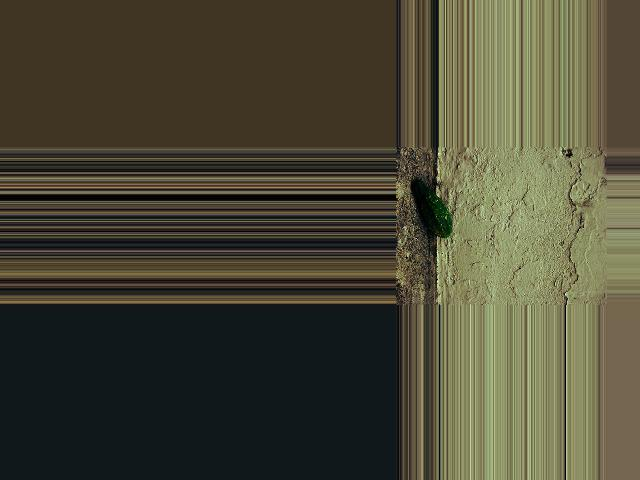cucumber: (412, 181, 453, 238)
